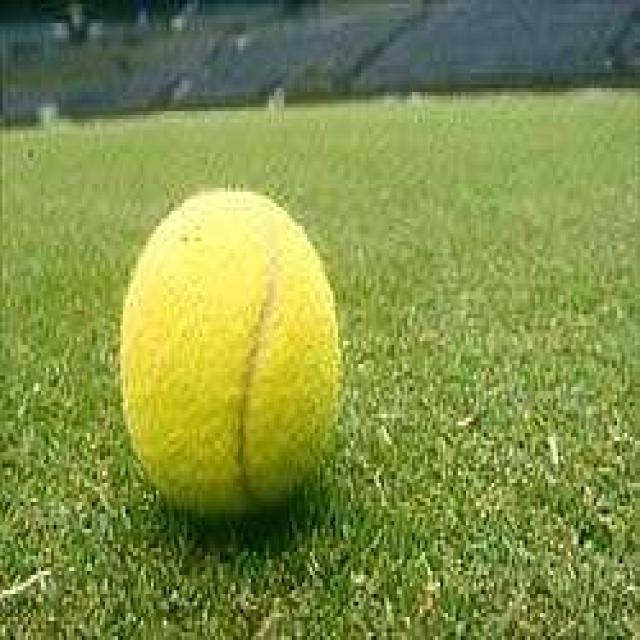Tennis_Ball: (123, 192, 335, 526)
